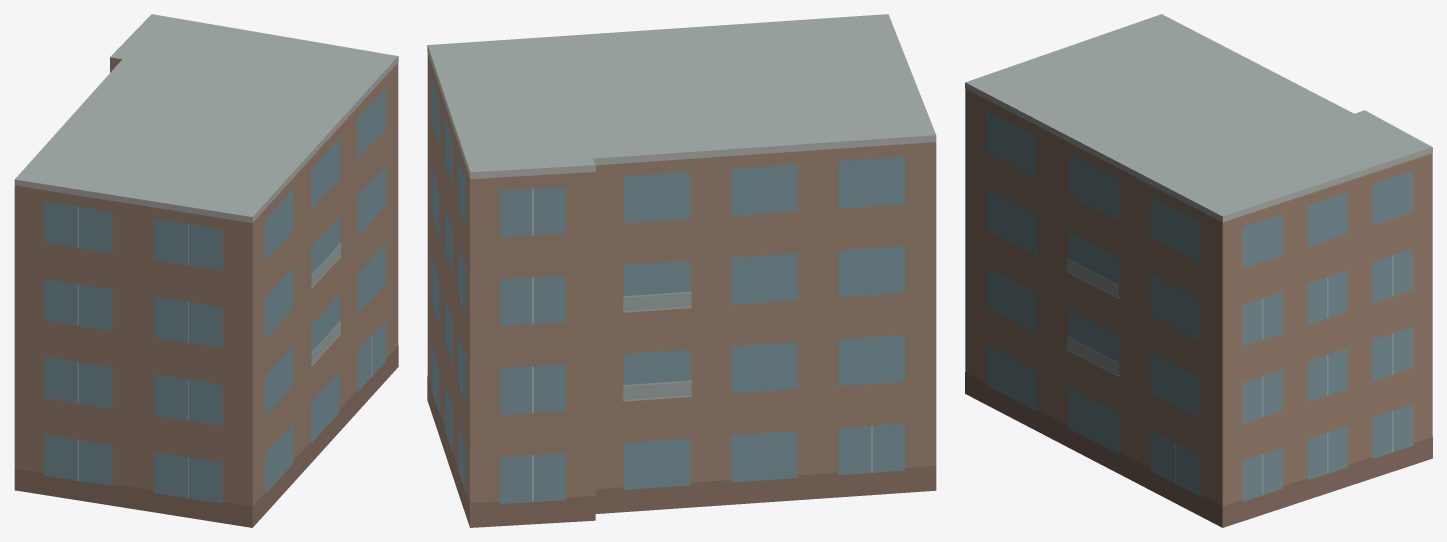
The model's file is survey-upis-32773189.glb.
3 renders of one model, left to right at view 1: azimuth 30°, elevation 25°; view 2: azimuth 150°, elevation 25°; view 3: azimuth 270°, elevation 25°, orthographic. The views are drawn at different scales.
Parts seen in each view (by area): view 1: survey-upis-32773189.tmp; view 2: survey-upis-32773189.tmp; view 3: survey-upis-32773189.tmp.
Part boxes in pixels (left/top/right/bottom): survey-upis-32773189.tmp: left=14, top=14, right=398, bottom=527; survey-upis-32773189.tmp: left=427, top=14, right=936, bottom=527; survey-upis-32773189.tmp: left=965, top=14, right=1432, bottom=527.
Size of the model in its own units: 17.77 by 12.73 by 17.33.
